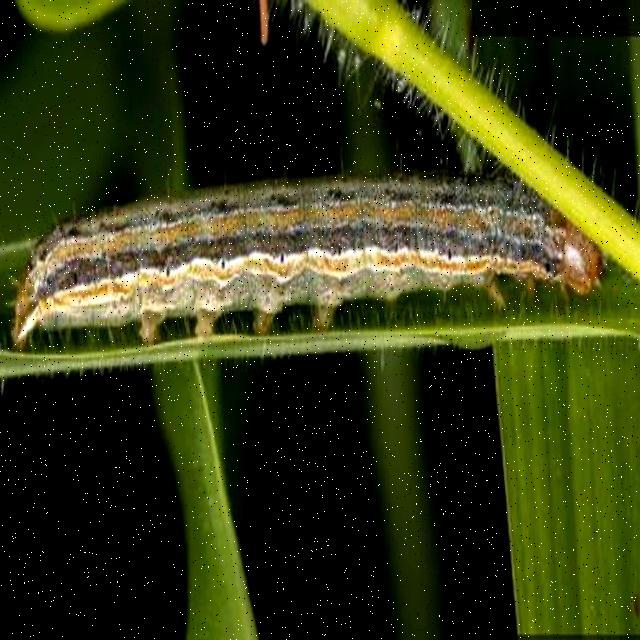worm: (10, 172, 607, 350)
